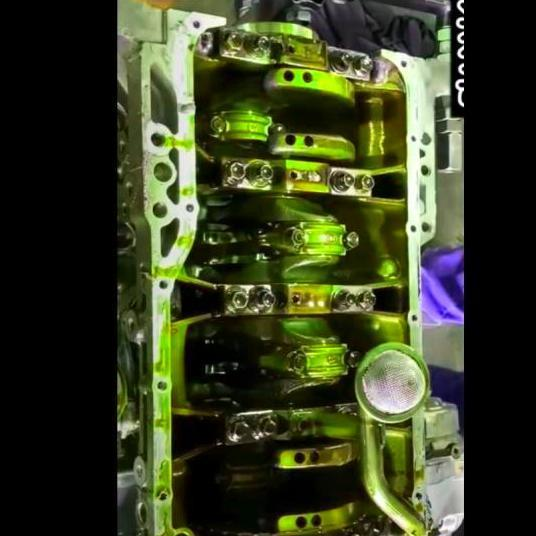hole: (151, 200, 167, 218), (149, 131, 165, 149), (159, 278, 168, 290), (157, 381, 167, 391), (413, 492, 423, 501), (191, 18, 199, 28), (185, 203, 193, 212), (409, 135, 417, 143), (409, 224, 417, 232), (399, 58, 407, 66), (410, 313, 417, 321)
